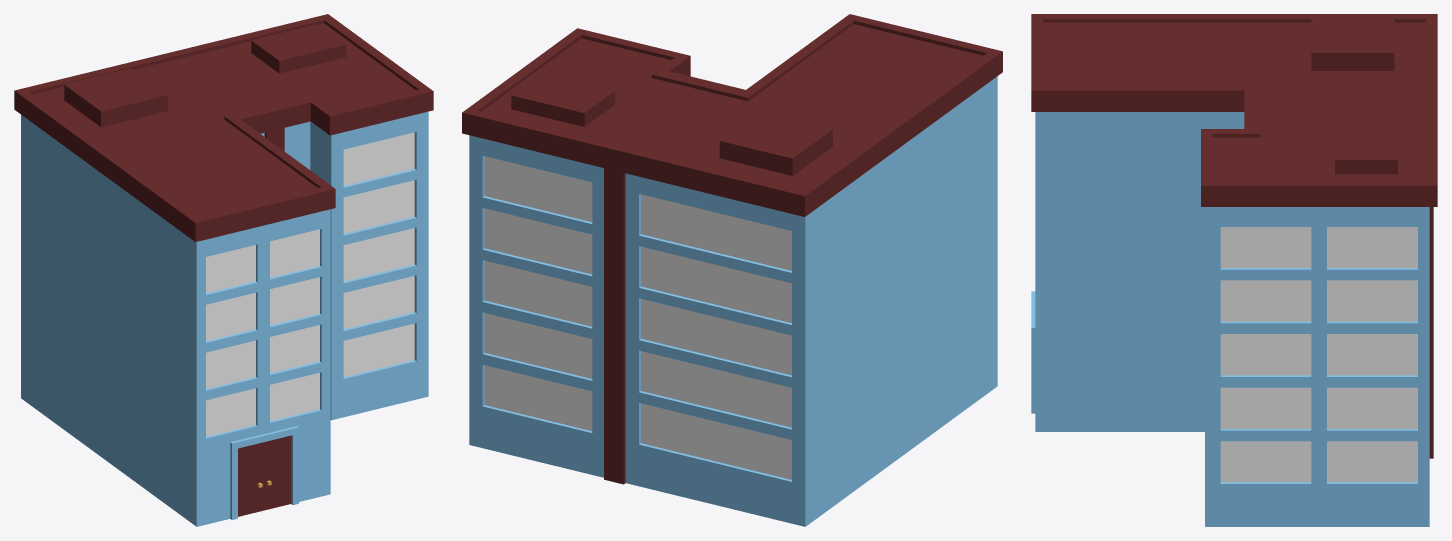
Rendered from building_test4.fbx.
3 views of the same model, side by side, from view 1: azimuth 30°, elevation 25°; view 2: azimuth 150°, elevation 25°; view 3: azimuth 270°, elevation 25° (orthographic). The views are drawn at different scales.
Parts seen in each view (by area): view 1: Object.001; view 2: Object.001; view 3: Object.001.
Boxes of the visible parts, x1,y1,x2,y2 form: Object.001: (14, 14, 433, 526); Object.001: (462, 14, 1002, 526); Object.001: (1031, 14, 1437, 526).
Bounding box in the file's own units: 103 × 100 × 103.
